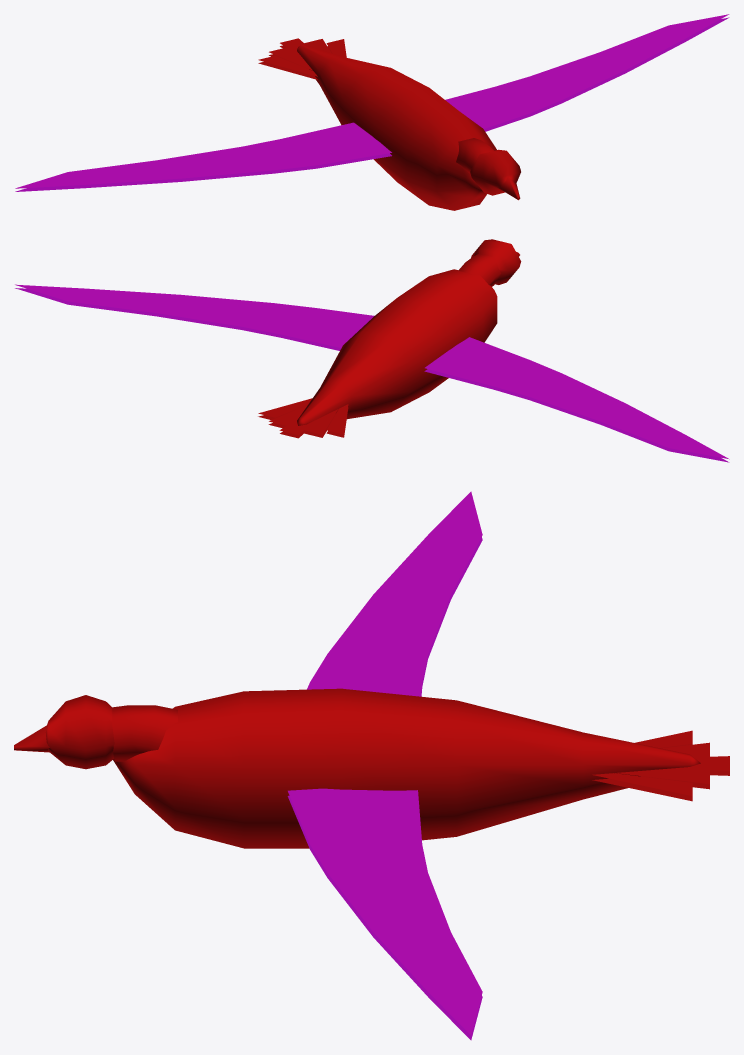
Rendered from gannet.glb.
3 views of the same model, one above another, from view 1: azimuth 30°, elevation 25°; view 2: azimuth 150°, elevation 25°; view 3: azimuth 270°, elevation 25° (orthographic). The views are drawn at different scales.
Visible parts, largest first — view 1: bird; view 2: bird; view 3: bird.
Part boxes in pixels (<box>): bird: <box>15,14,729,210</box>; bird: <box>15,239,729,462</box>; bird: <box>14,491,729,1040</box>.
Size of the model in its own units: 1.75 by 0.2031 by 0.9727.
